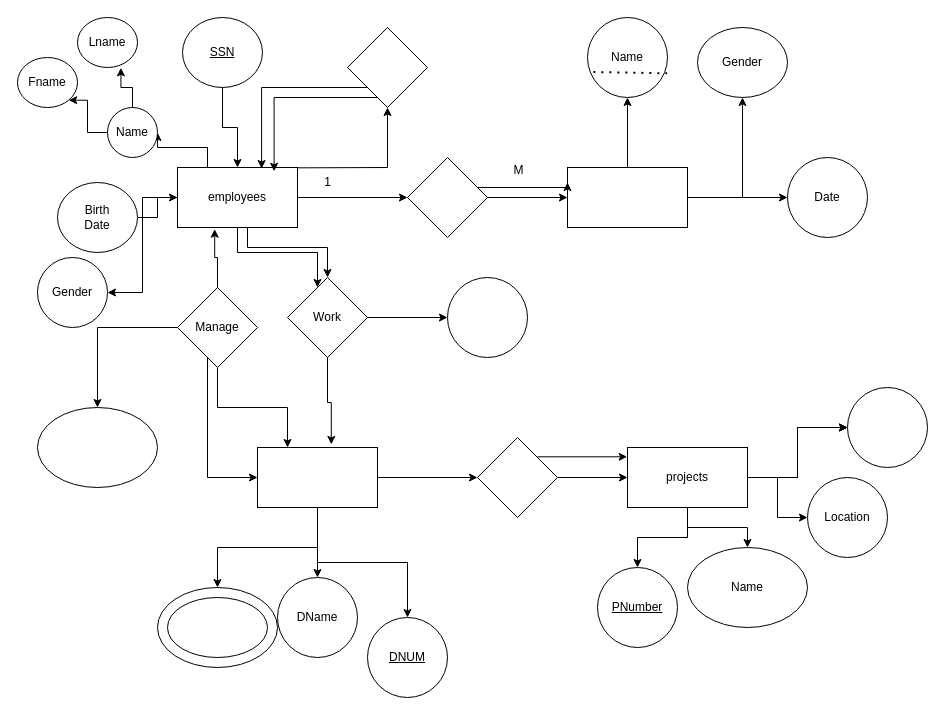
Some shapes in this 945 by 715 pixel diagram are drawn without their labels. Here are the shapes that lost their labels. From the top down, the centre of each, then its label:
At [387,67]: "Supervisor".
At [447,197]: "Have".
At [627,197]: "dependent".
At [487,317]: "working hours".
At [97,447]: "HiringDate".
At [887,427]: "City".
At [317,477]: "departments".
At [517,477]: "Assigne".
At [217,627]: "locations".
